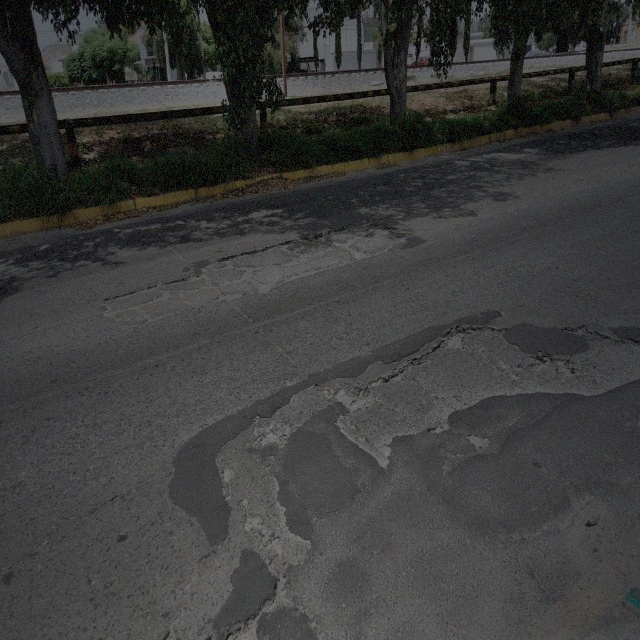pothole: (337, 322, 637, 461), (209, 215, 395, 307), (215, 437, 312, 601), (464, 432, 492, 452), (304, 233, 327, 245)
